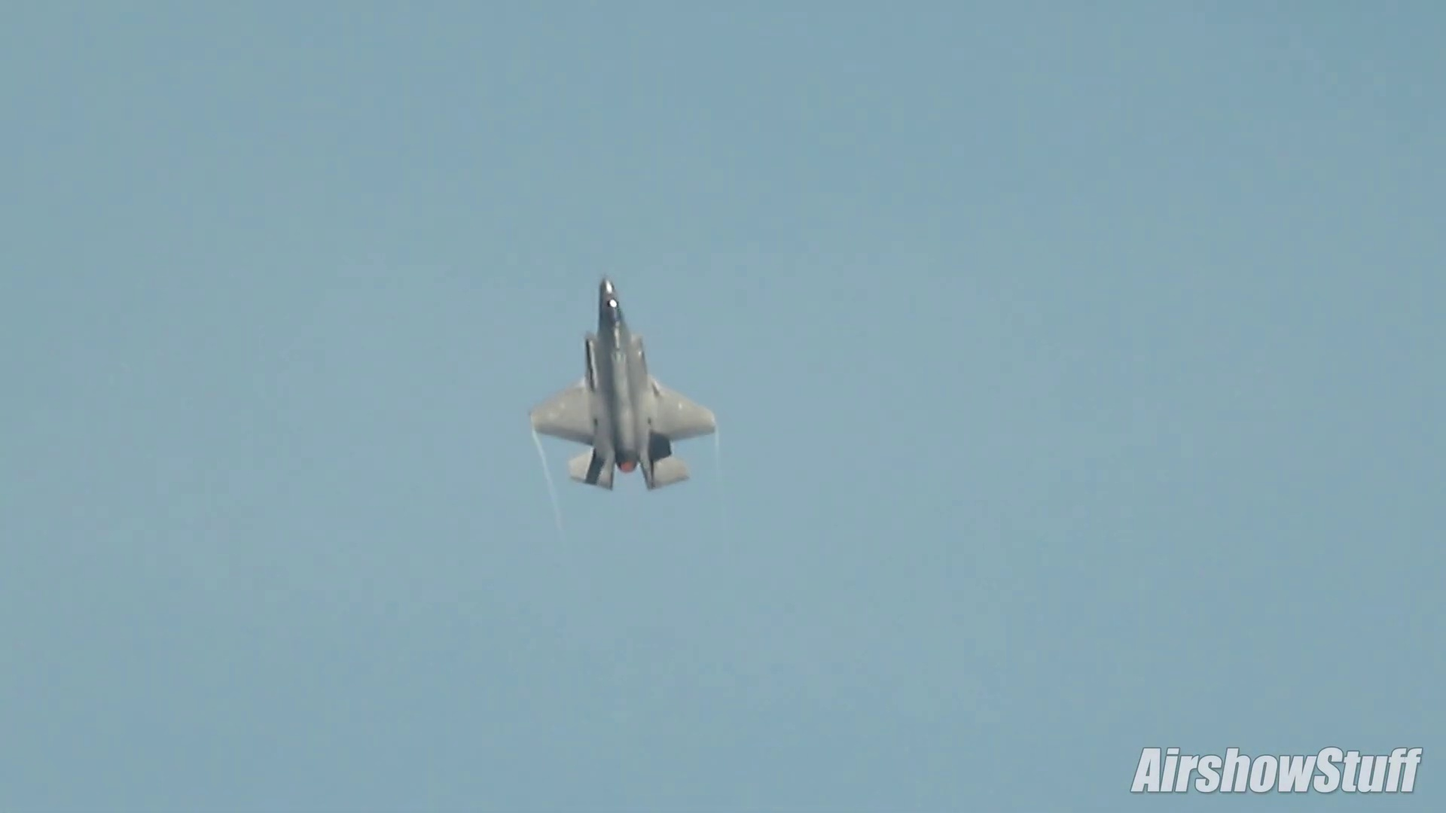F35: (518, 271, 722, 503)
